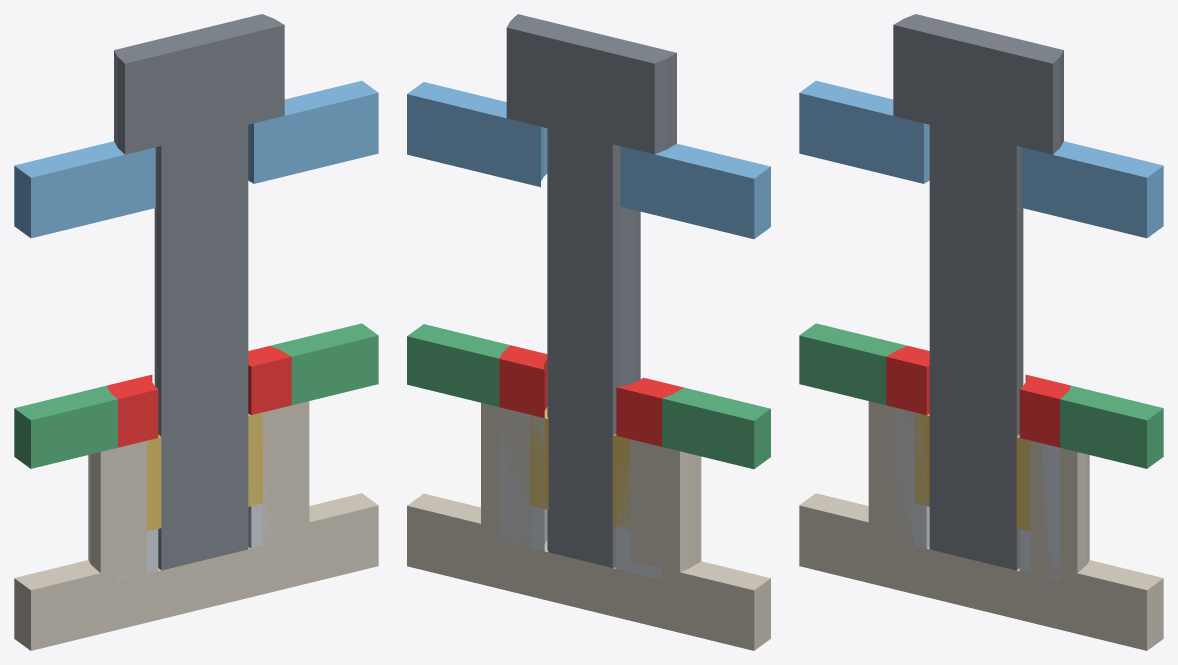
The model's file is purchased-spacer-fills-board-lid-gap.actual.glb.
The picture shows the model from 3 angles, left to right: view 1: azimuth 30°, elevation 25°; view 2: azimuth 150°, elevation 25°; view 3: azimuth 330°, elevation 25°; orthographic projection.
Visible parts, largest first — view 1: EN1.H1.screw, base, lid, board, intersection-highlight, EN1.H1.insert, EN1.H1.spacer; view 2: EN1.H1.screw, base, lid, board, EN1.H1.spacer, intersection-highlight, EN1.H1.insert; view 3: EN1.H1.screw, base, lid, board, EN1.H1.spacer, intersection-highlight, EN1.H1.insert.
Part boxes in pixels (x1,y1,x2,y2): EN1.H1.screw: [114, 14, 284, 570]; base: [14, 401, 378, 650]; lid: [14, 80, 378, 238]; board: [14, 323, 378, 468]; intersection-highlight: [107, 346, 291, 447]; EN1.H1.insert: [147, 412, 262, 531]; EN1.H1.spacer: [118, 412, 277, 580]; EN1.H1.screw: [506, 14, 676, 567]; base: [407, 403, 770, 650]; lid: [407, 82, 770, 238]; board: [407, 324, 770, 469]; EN1.H1.spacer: [499, 407, 661, 579]; intersection-highlight: [499, 345, 683, 446]; EN1.H1.insert: [530, 407, 630, 529]; EN1.H1.screw: [893, 14, 1063, 570]; base: [799, 401, 1163, 650]; lid: [799, 80, 1163, 238]; board: [799, 323, 1163, 468]; EN1.H1.spacer: [886, 406, 1059, 580]; intersection-highlight: [886, 346, 1070, 447]; EN1.H1.insert: [915, 412, 1030, 531].
Size of the model in its own units: 12 by 18.6 by 1.
